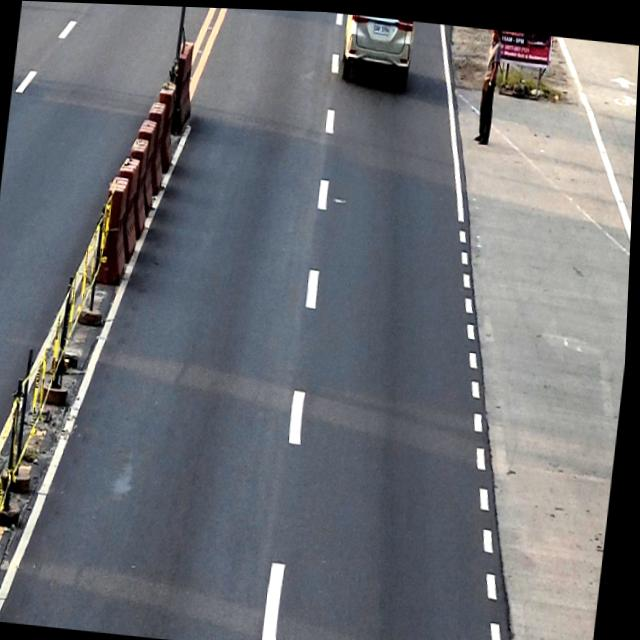Car: (339, 11, 415, 89)
License-Plate: (373, 20, 390, 32)
